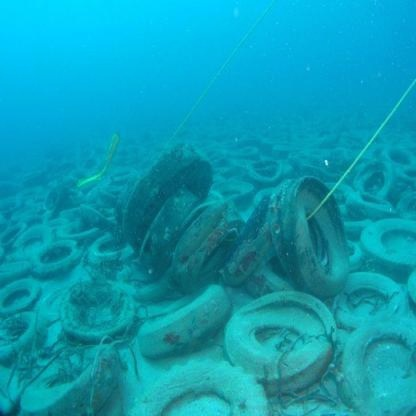net: (153, 1, 292, 149), (305, 73, 416, 223)
tire: (121, 142, 352, 290), (221, 296, 335, 388), (123, 360, 279, 416), (332, 314, 416, 416), (15, 341, 120, 416), (138, 285, 237, 350), (64, 278, 147, 338), (330, 271, 404, 326), (362, 218, 416, 274), (3, 302, 50, 354), (1, 221, 42, 264), (35, 239, 80, 278), (344, 191, 402, 221), (84, 233, 134, 266), (359, 163, 400, 202), (210, 174, 254, 210), (4, 276, 45, 312), (26, 187, 65, 213), (245, 156, 284, 182)
